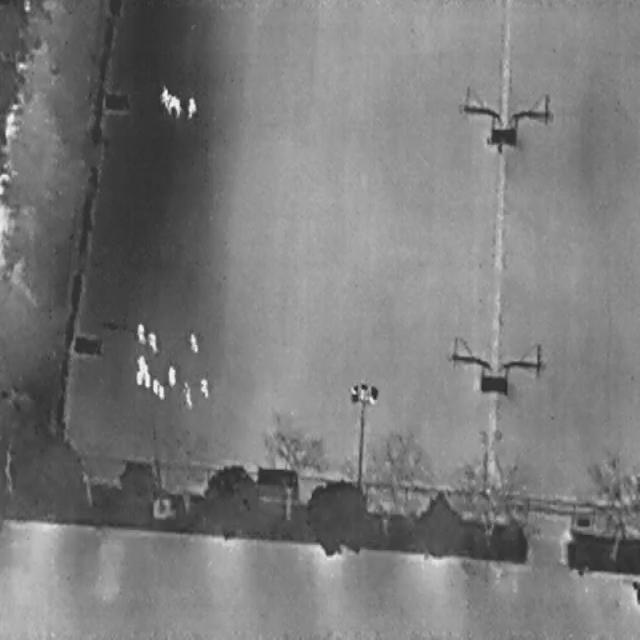Person: (181, 381, 195, 410), (186, 329, 201, 356), (159, 85, 171, 111), (170, 94, 182, 115), (165, 365, 177, 386), (146, 330, 157, 352), (134, 321, 144, 345), (199, 378, 210, 398), (134, 352, 146, 370), (187, 95, 196, 116), (142, 370, 150, 388), (134, 369, 142, 386), (150, 378, 159, 393), (155, 384, 164, 398)
